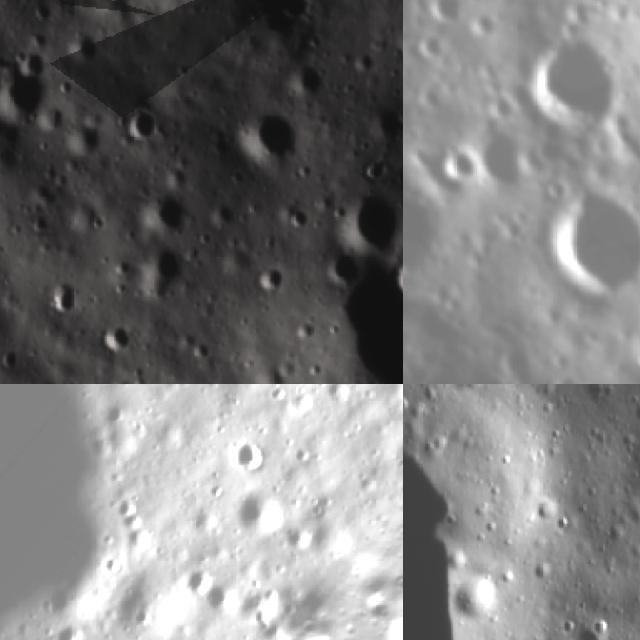crater: (403, 427, 506, 640), (502, 21, 640, 167), (522, 175, 640, 332), (403, 141, 471, 310), (151, 0, 366, 45), (456, 119, 550, 213), (330, 179, 403, 267), (222, 102, 302, 168), (0, 54, 54, 135), (426, 136, 492, 202), (141, 243, 216, 295), (483, 329, 552, 384), (232, 489, 292, 549), (410, 0, 484, 43), (111, 97, 166, 154), (132, 182, 189, 236), (220, 429, 276, 483), (406, 28, 461, 82), (407, 74, 458, 126), (288, 63, 334, 109), (58, 27, 105, 72), (95, 320, 142, 362), (621, 422, 640, 510), (177, 564, 216, 604), (42, 278, 78, 321), (387, 249, 403, 312), (617, 133, 640, 174), (445, 384, 492, 400), (392, 406, 403, 465), (403, 88, 412, 128)
